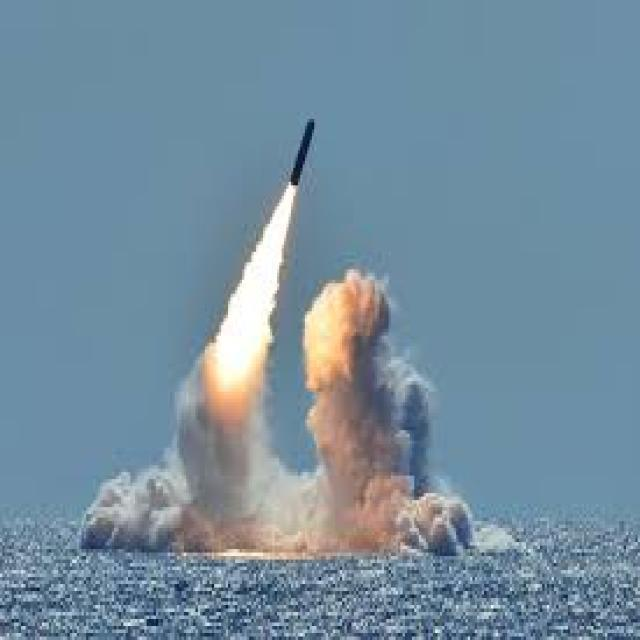missile: (283, 113, 324, 194)
